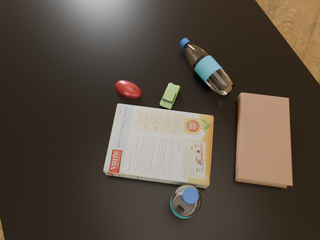book: (236, 93, 293, 188)
bottle: (180, 38, 235, 97), (170, 185, 202, 219)
box: (104, 104, 214, 188)
mouse: (115, 81, 142, 98)
toy_car: (159, 83, 180, 109)
